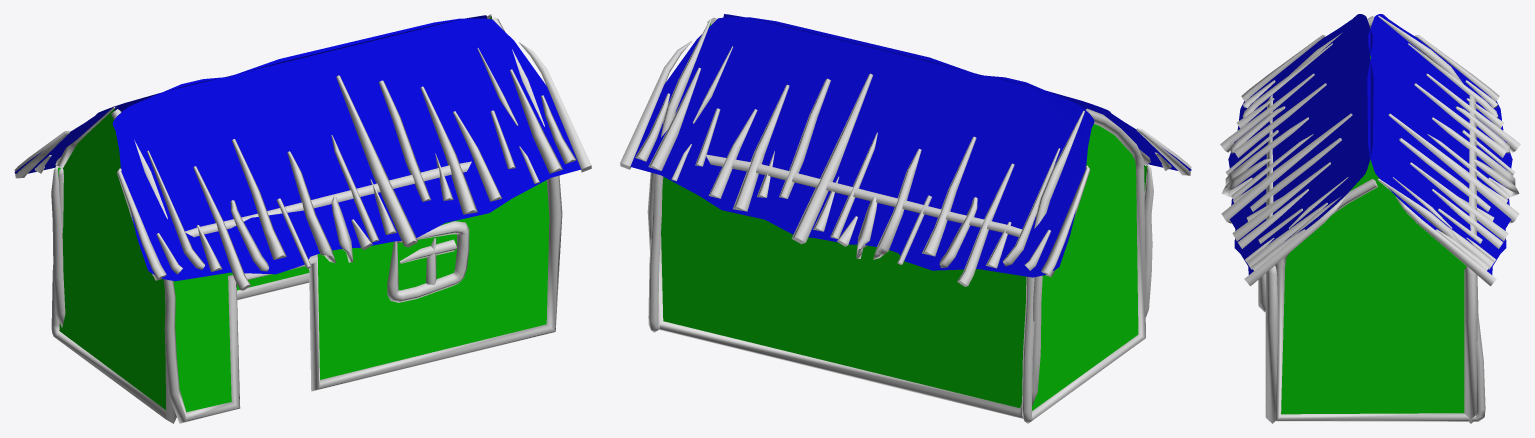
The model's file is hut2.fbx.
3 renders of one model, left to right at view 1: azimuth 30°, elevation 25°; view 2: azimuth 150°, elevation 25°; view 3: azimuth 270°, elevation 25°, orthographic. The views are drawn at different scales.
Parts seen in each view (by area): view 1: GP_Layer.010; view 2: GP_Layer.010; view 3: GP_Layer.010.
Part boxes in pixels (x1=…): GP_Layer.010: x1=14, y1=14, x2=591, y2=423; GP_Layer.010: x1=620, y1=14, x2=1191, y2=423; GP_Layer.010: x1=1220, y1=14, x2=1520, y2=423.
Bounding box in the file's own units: 497 × 306 × 331.
